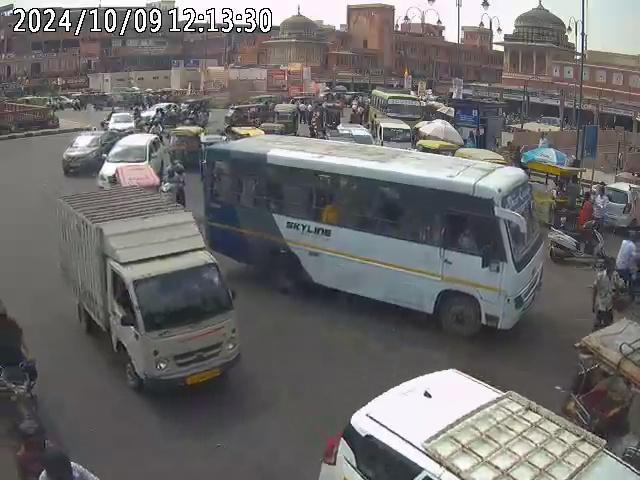auto: (167, 125, 205, 167), (270, 103, 298, 136)
bus: (196, 132, 547, 335), (369, 87, 422, 135)
car: (313, 364, 640, 478), (99, 133, 163, 196), (61, 130, 113, 175), (106, 111, 135, 135)
helmet: (14, 416, 41, 437)
license_plate: (185, 369, 221, 386)
lorry: (56, 190, 242, 384)
motorbike-rider: (0, 284, 39, 440), (13, 420, 111, 479)
person: (615, 230, 639, 305)
scooty: (547, 220, 604, 265)
